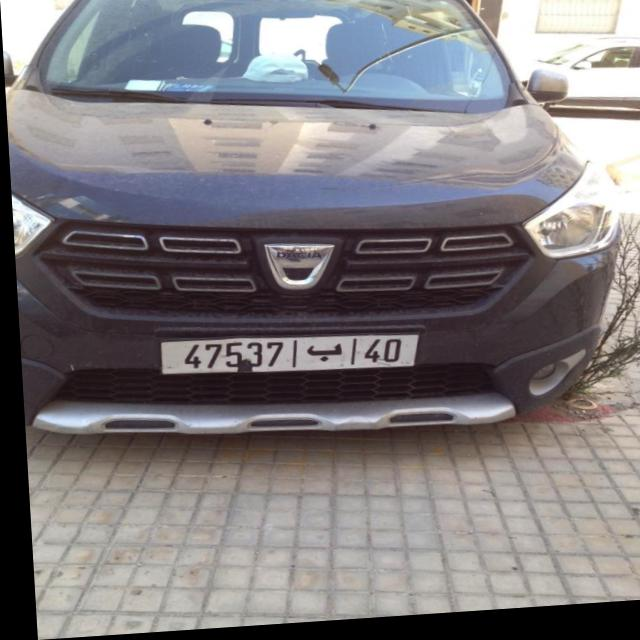License-Plate: (156, 339, 414, 376)
